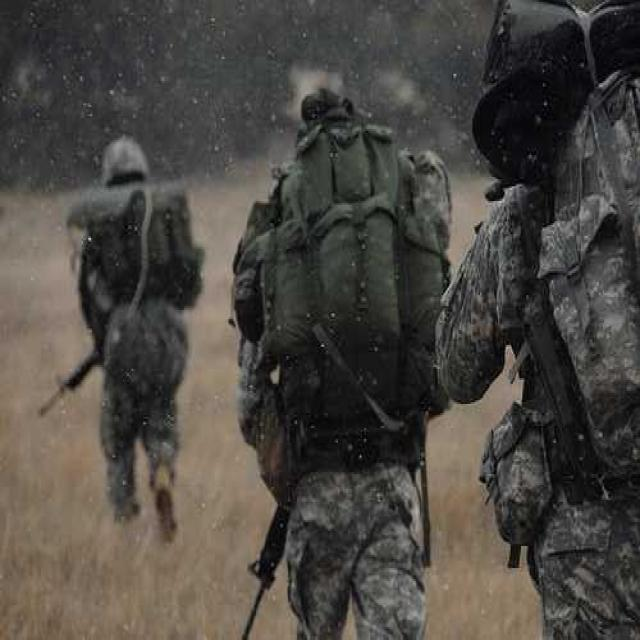FRifle: (36, 327, 119, 431)
